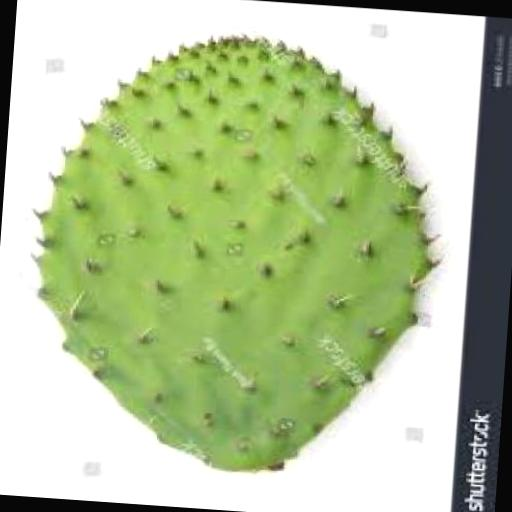biodegradable: (11, 23, 454, 486)
